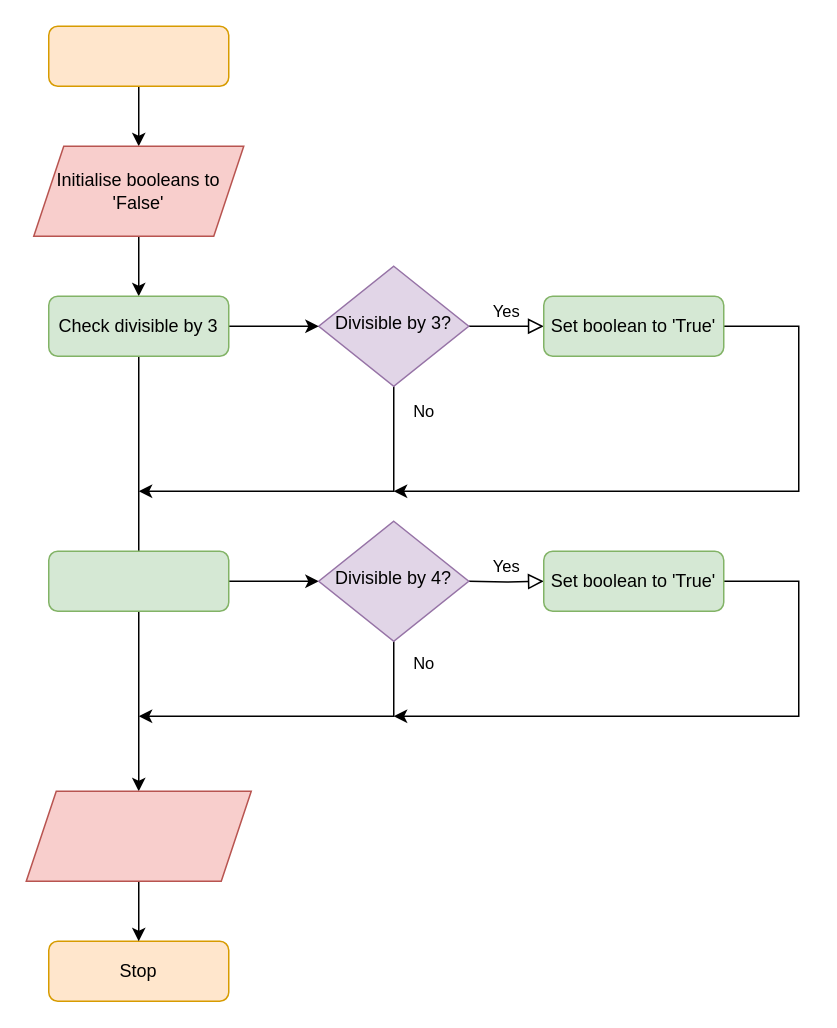
Some shapes in this 837 by 1028 pixel diagram are drawn without their labels. The centre of each missing label's shape, as x and y in pixels:
"Check divisible by 4" goes at point 138,580.
"Print output message" goes at point 138,835.
"Start" goes at point 138,55.
